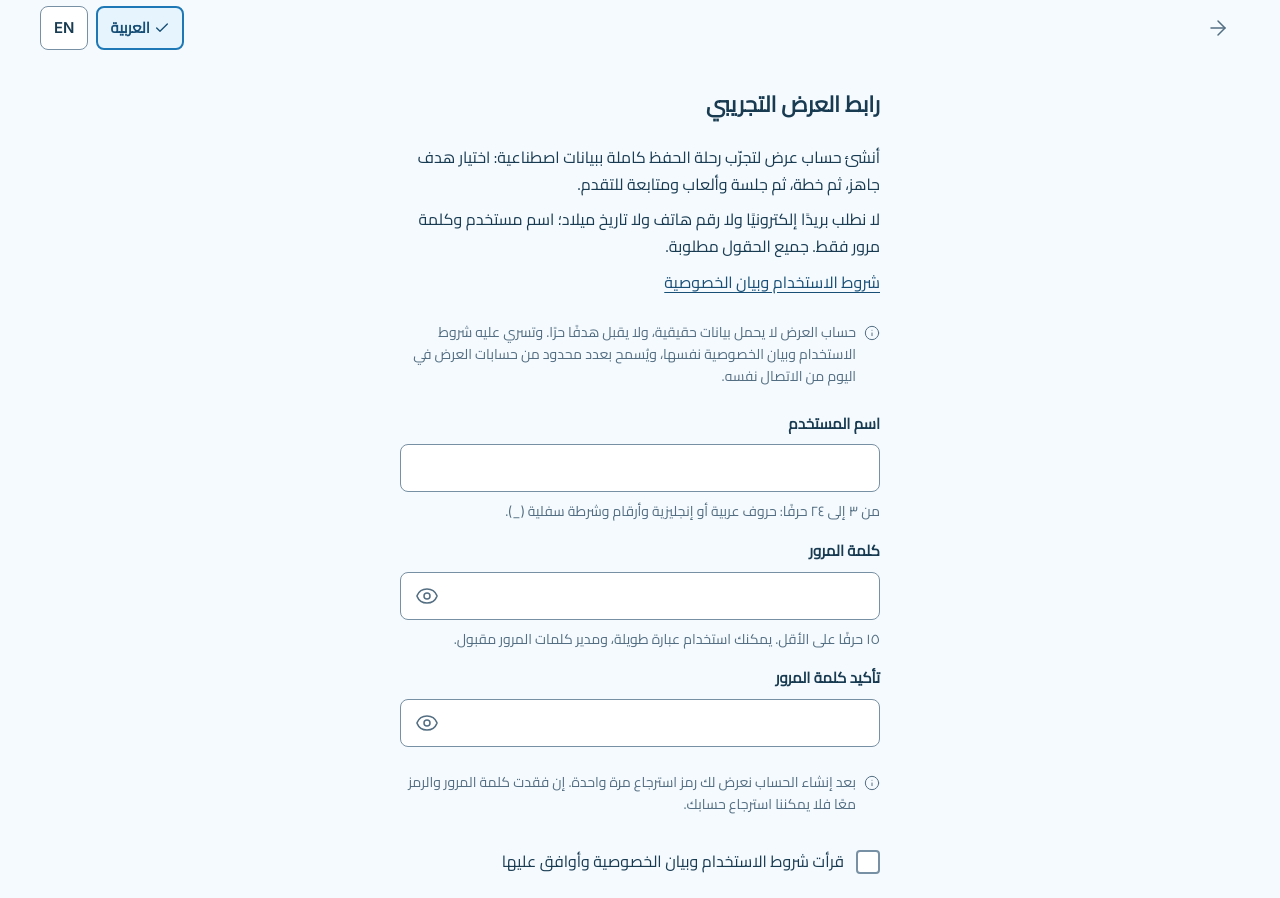
Test case: S-28 creating the demo account (E26) › marks a taken name on the name field and keeps the values
Type "taken_user_01" into the field labelled "اسم المستخدم". click: [640, 468]
box: 401,446 -> 879,492
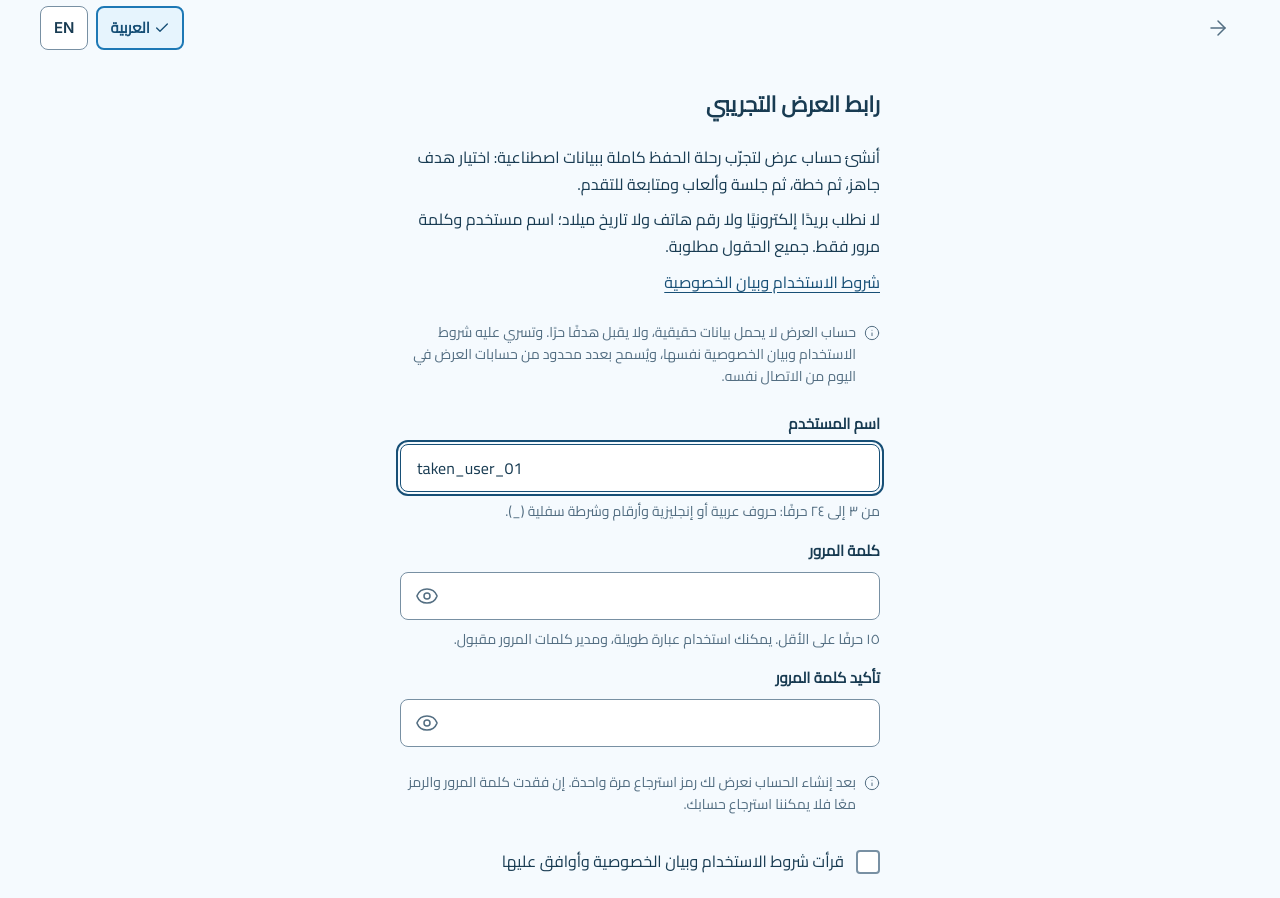
Type "synthetic passphrase for docs only" into the password field labelled "كلمة المرور". click: [664, 596]
box: 449,573 -> 879,619
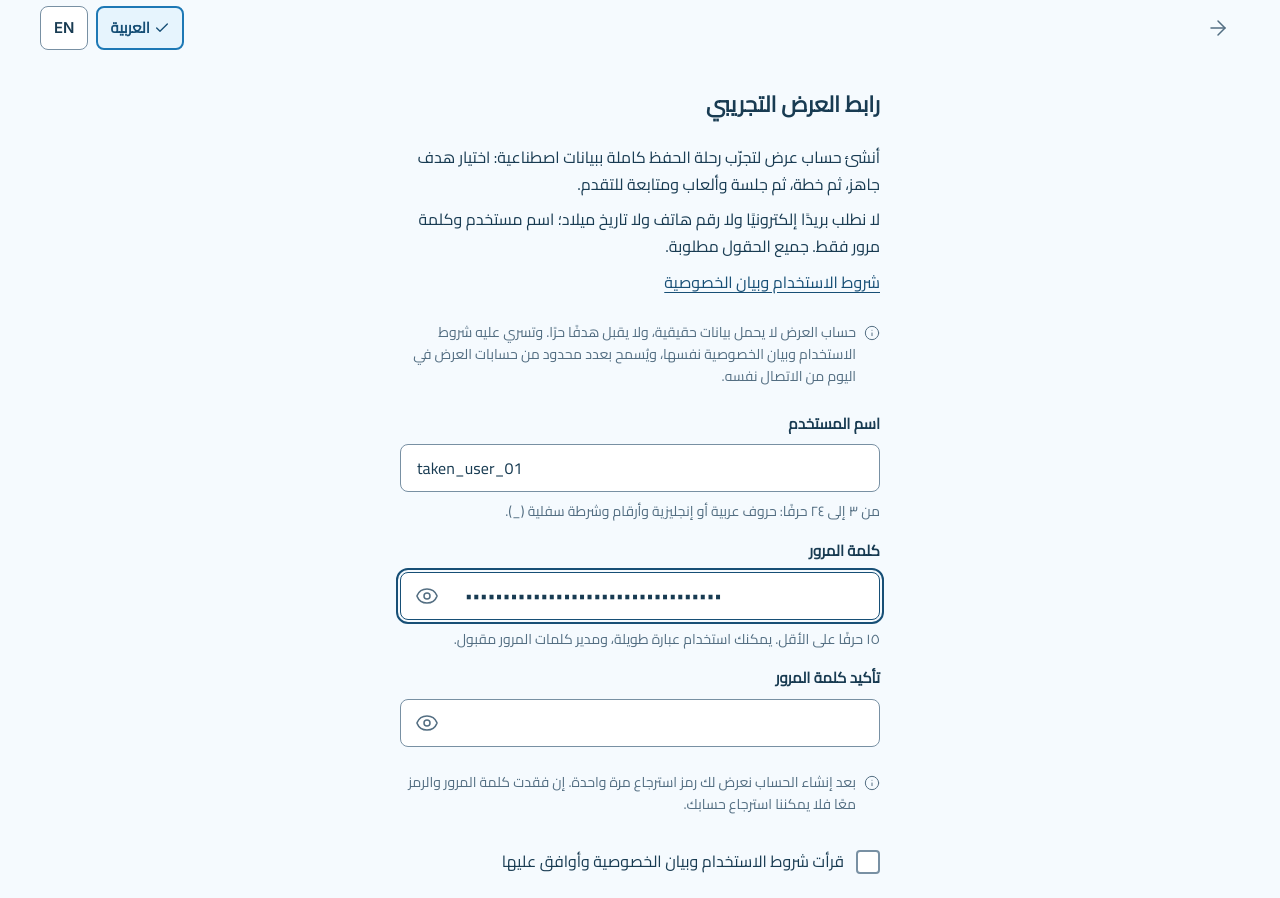
Type "synthetic passphrase for docs only" into the password field labelled "تأكيد كلمة المرور". click: [664, 723]
box: 449,700 -> 879,746
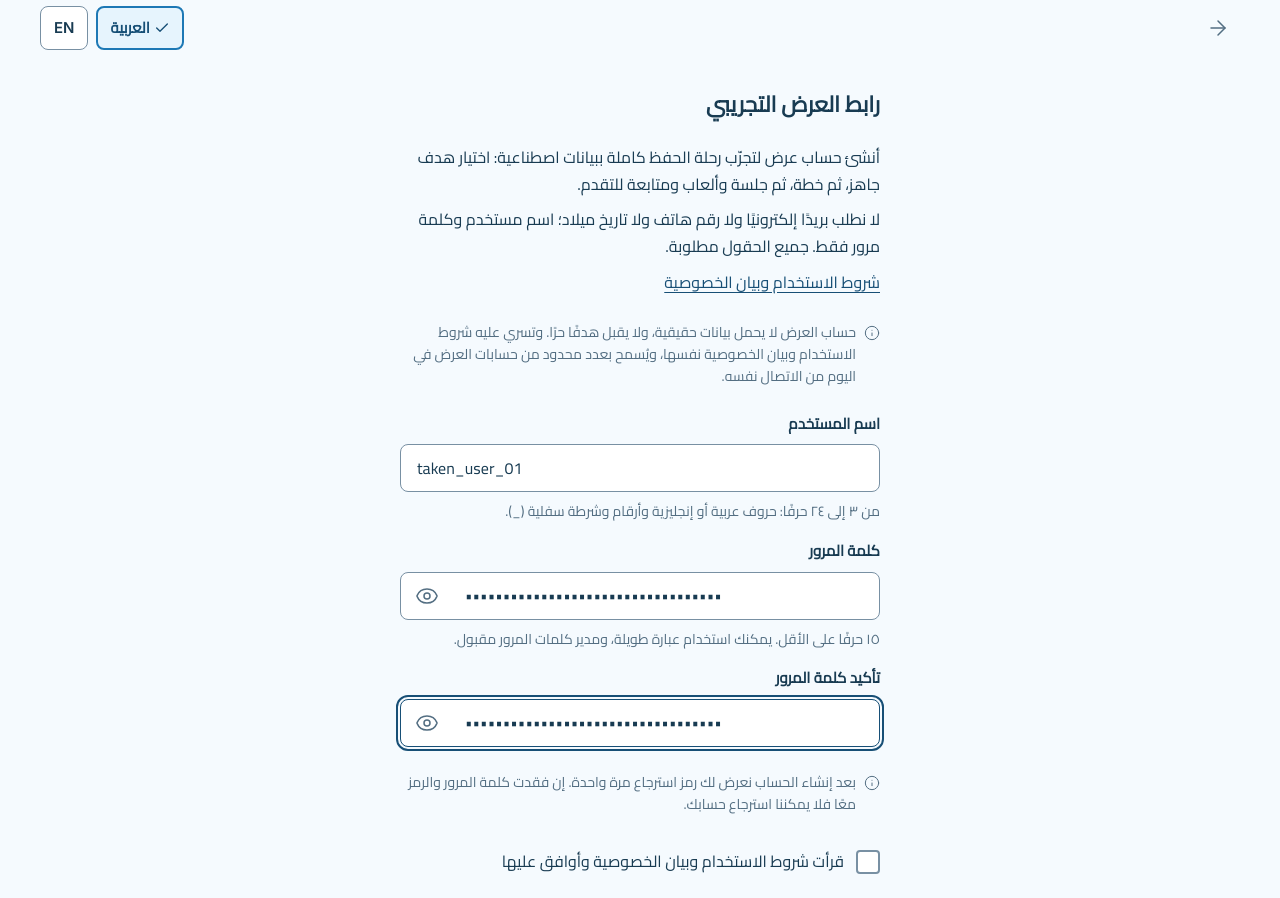
Click the checkbox labelled "قرأت شروط الاستخدام وبيان الخصوصية وأوافق عليها". click: [691, 861]
box: 502,846 -> 880,876
(page scrolled)
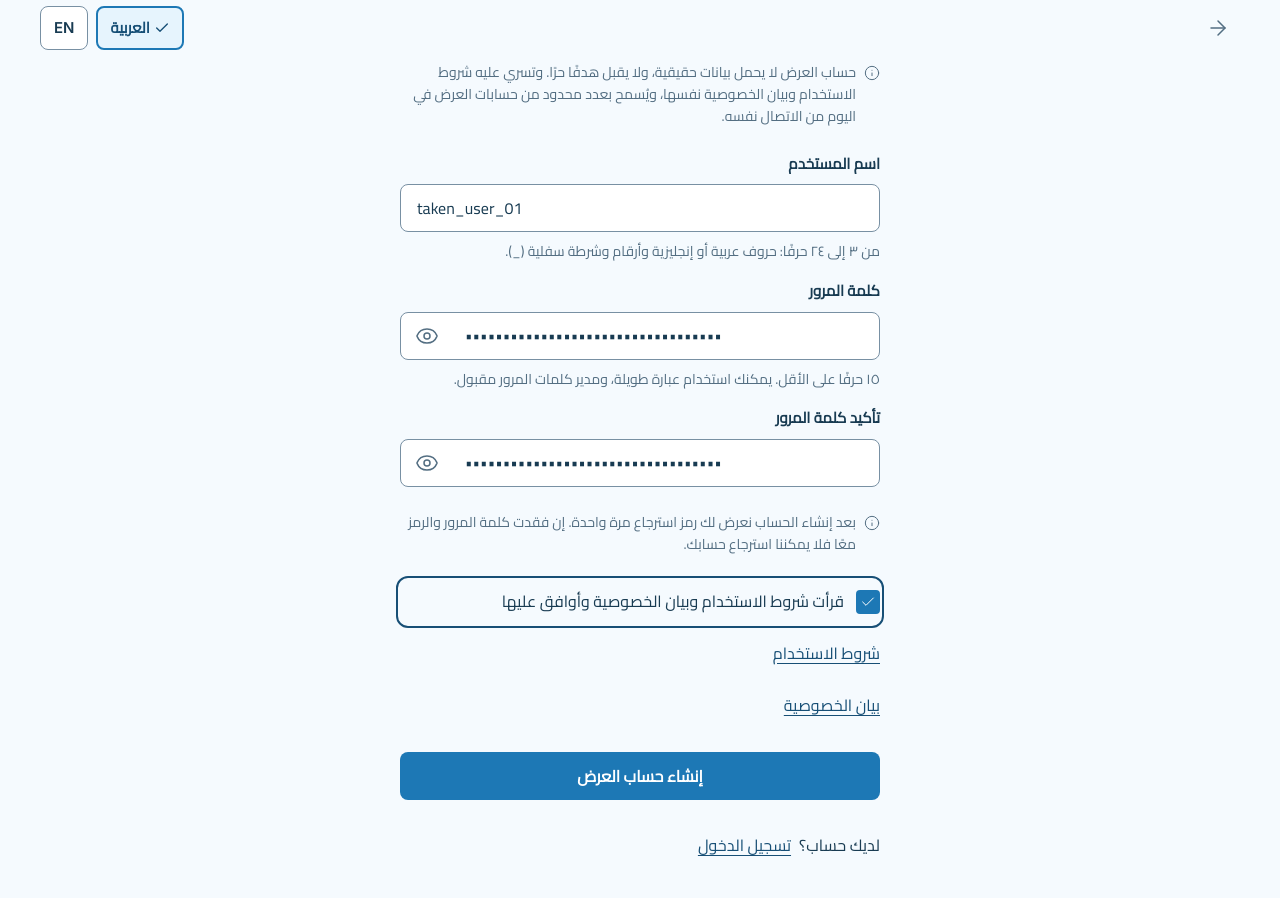
Click the button "إنشاء حساب العرض". click: [640, 776]
box: 400,752 -> 880,800
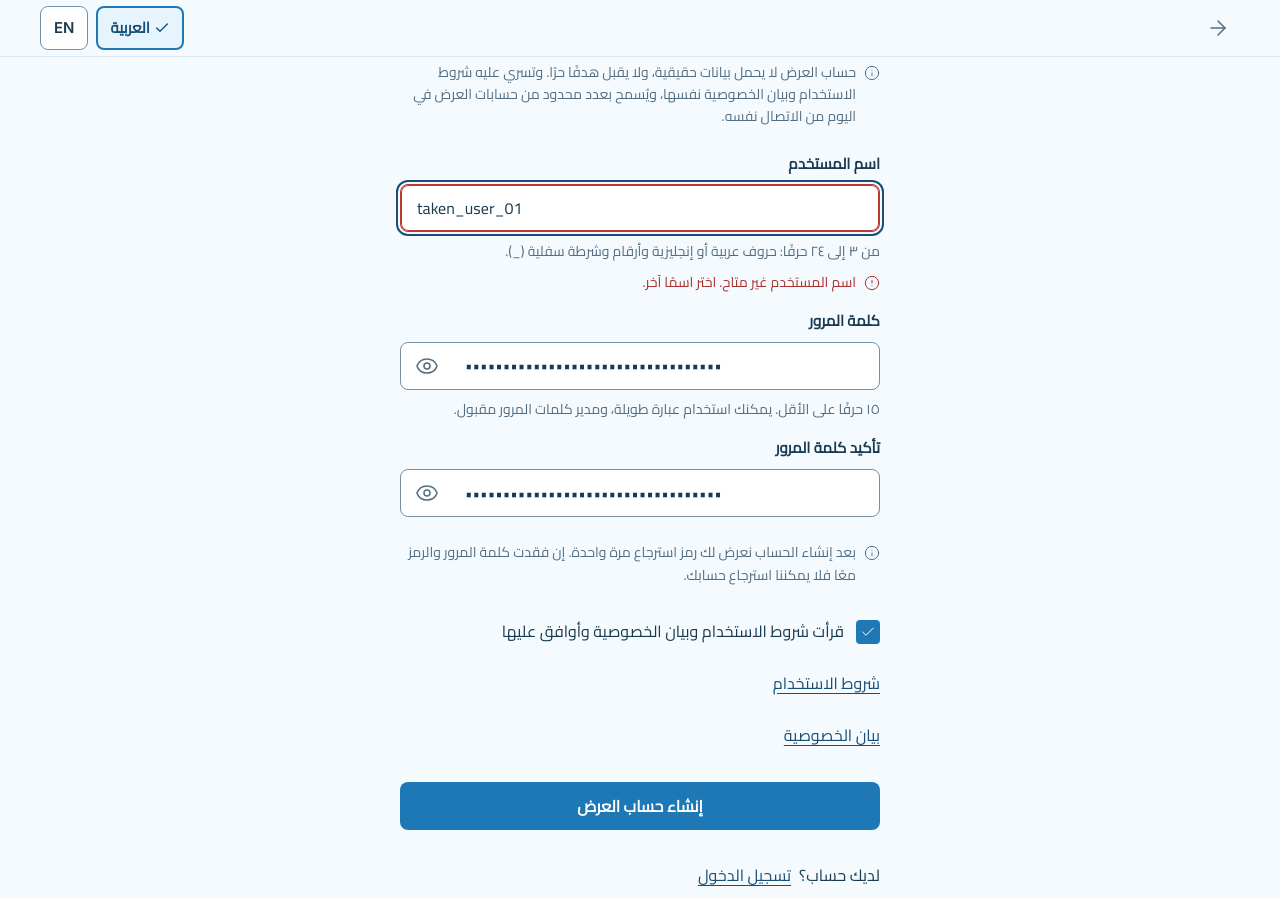
Result: the text "اسم المستخدم غير متاح. اختر اسمًا آخر." is shown at 642,269 -> 880,295
